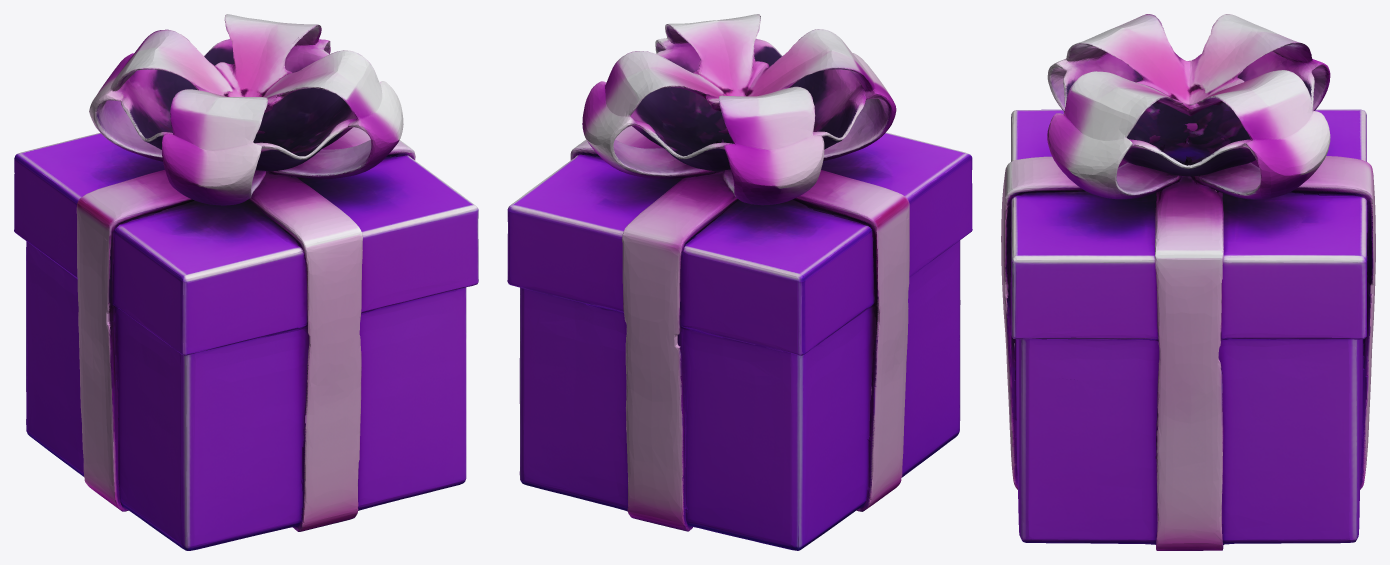
File: gift7.glb
The picture shows the model from 3 angles, left to right: view 1: azimuth 30°, elevation 25°; view 2: azimuth 150°, elevation 25°; view 3: azimuth 270°, elevation 25°; orthographic projection. The views are drawn at different scales.
Parts seen in each view (by area): view 1: world; view 2: world; view 3: world.
Boxes of the visible parts, left/top/right/bottom form: world: left=14, top=14, right=478, bottom=550; world: left=507, top=14, right=972, bottom=550; world: left=1001, top=14, right=1375, bottom=550.
Bounding box in the file's own units: 0.7931 × 0.9939 × 0.794.
Materials: 1 (1 with a texture image).
